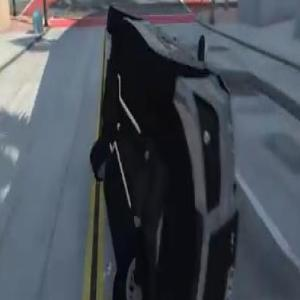critical: (89, 0, 243, 300)
